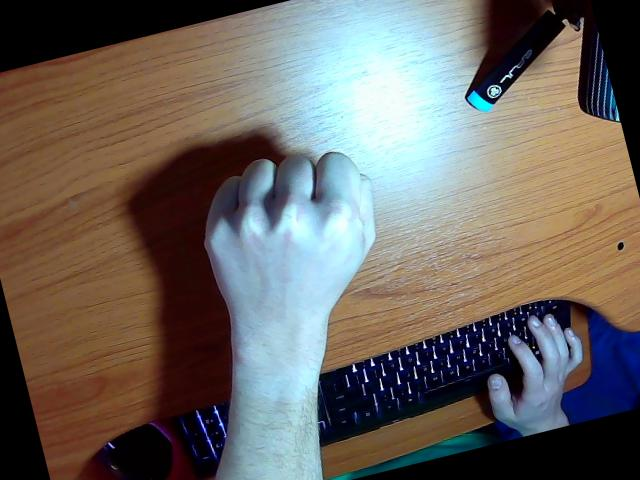rock: (205, 152, 375, 480)
